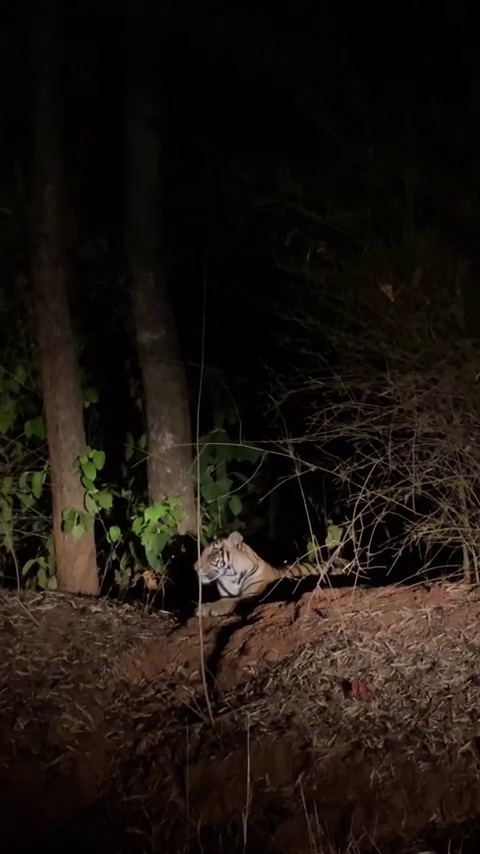Tiger: (191, 527, 356, 617)
